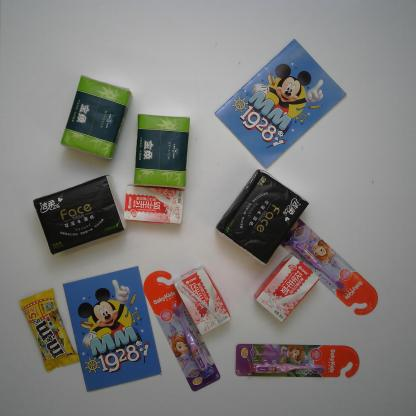Chocolate: (19, 288, 80, 372)
Milk: (253, 253, 319, 326), (174, 267, 230, 335), (122, 184, 184, 227)
Personal Hygiene: (279, 217, 378, 315), (142, 268, 220, 392), (233, 341, 361, 381)
Stationery: (213, 37, 348, 170), (62, 265, 161, 392)
Tissue: (216, 168, 311, 264), (33, 173, 125, 256), (60, 76, 133, 160), (132, 111, 191, 191)
